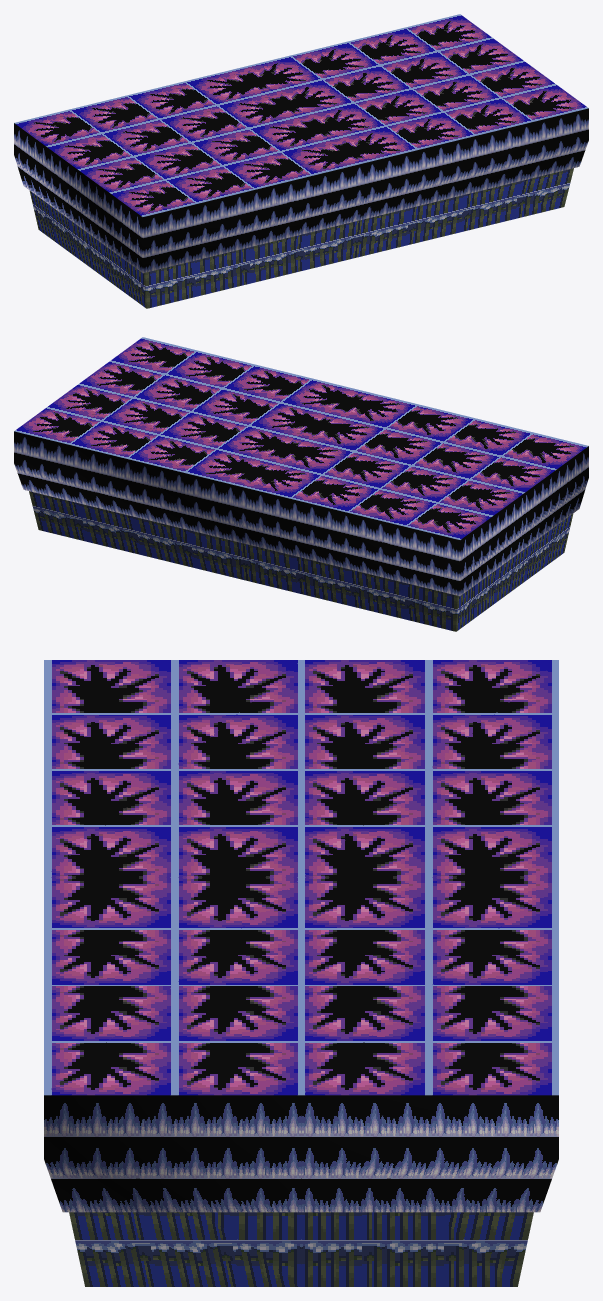
File: 3652kg_case_19.gltf
3 renders of one model, top to bottom at view 1: azimuth 30°, elevation 25°; view 2: azimuth 150°, elevation 25°; view 3: azimuth 270°, elevation 25°, orthographic. The views are drawn at different scales.
Parts seen in each view (by area): view 1: 3652kg_case_19; view 2: 3652kg_case_19; view 3: 3652kg_case_19.
Part boxes in pixels (x1,y1,x2,y2): 3652kg_case_19: (14,14,588,308); 3652kg_case_19: (14,337,588,631); 3652kg_case_19: (44,660,558,1286).
Size of the model in its own units: 2 by 0.4399 by 1.
3 materials, 3 textured.
